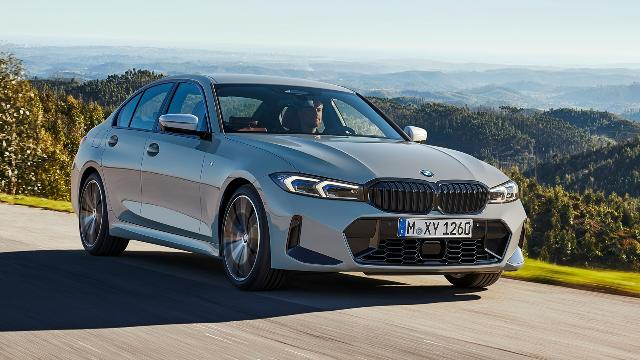bmw: (70, 72, 528, 290)
